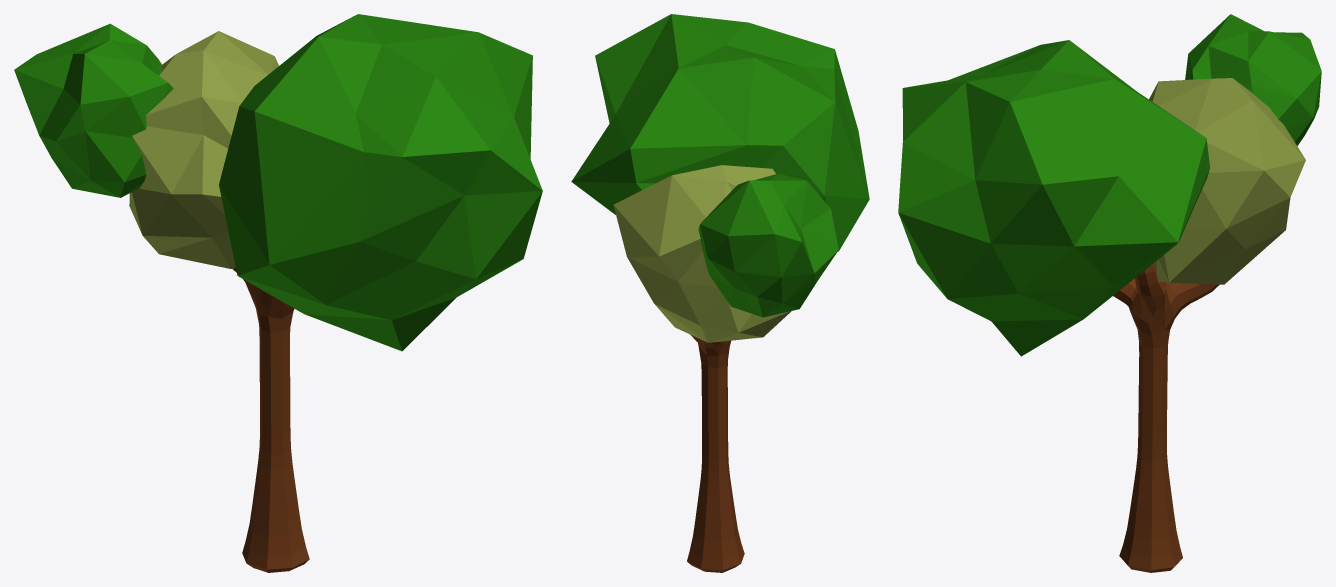
File: Pohon.fbx
3 views of the same model, side by side, from view 1: azimuth 30°, elevation 25°; view 2: azimuth 150°, elevation 25°; view 3: azimuth 270°, elevation 25° (orthographic). The views are drawn at different scales.
Visible parts, largest first — view 1: Icosphere.001, Icosphere, Icosphere.003, Pohon; view 2: Icosphere.001, Icosphere, Icosphere.003, Pohon; view 3: Icosphere.001, Icosphere, Pohon, Icosphere.003.
Boxes of the visible parts, x1,y1,x2,y2 form: Icosphere.001: [219, 14, 542, 351]; Icosphere: [129, 31, 278, 268]; Icosphere.003: [14, 23, 173, 197]; Pohon: [232, 268, 309, 572]; Icosphere.001: [571, 14, 869, 251]; Icosphere: [613, 165, 791, 342]; Icosphere.003: [698, 173, 838, 317]; Pohon: [687, 334, 744, 572]; Icosphere.001: [898, 40, 1209, 356]; Icosphere: [1149, 78, 1305, 284]; Pohon: [1113, 264, 1219, 572]; Icosphere.003: [1185, 14, 1321, 145].
Size of the model in its own units: 659 by 926 by 678.
